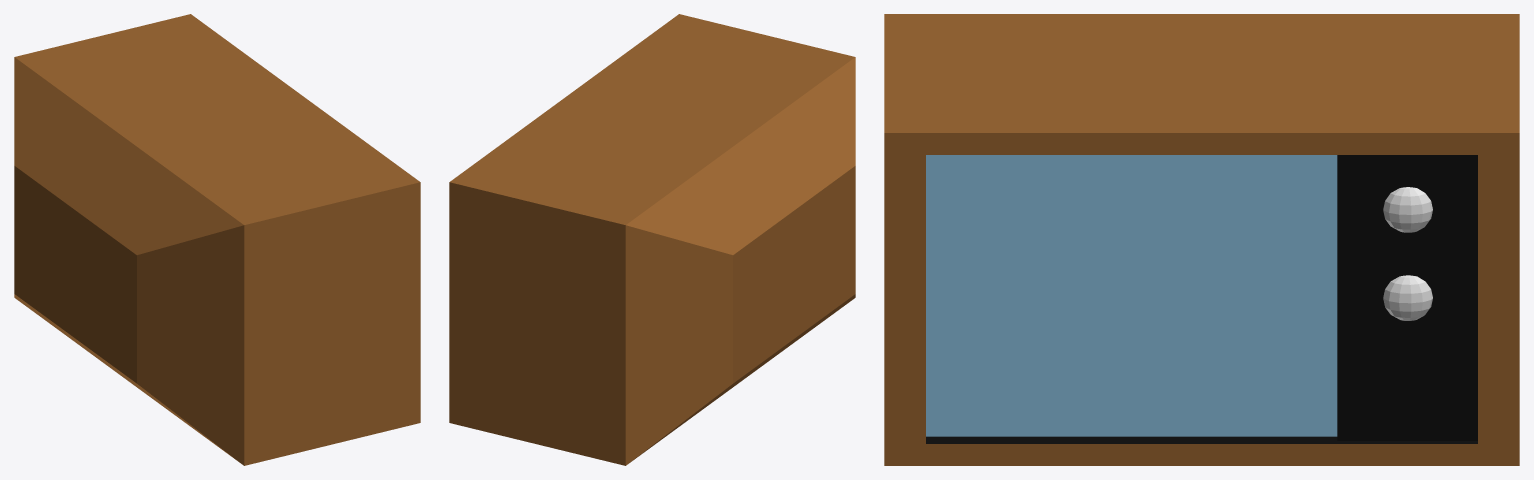
The picture shows the model from 3 angles, left to right: view 1: azimuth 30°, elevation 25°; view 2: azimuth 150°, elevation 25°; view 3: azimuth 270°, elevation 25°; orthographic projection. The views are drawn at different scales.
Parts seen in each view (by area): view 1: Tv; view 2: Tv; view 3: Tv, Knob1, Knob2.
Part boxes in pixels (x1,y1,x2,y2): Tv: [14, 14, 420, 465]; Tv: [449, 14, 855, 465]; Tv: [884, 14, 1519, 465]; Knob1: [1383, 275, 1432, 320]; Knob2: [1383, 187, 1432, 232].
Size of the model in its own units: 77.76 by 76.72 by 133.
